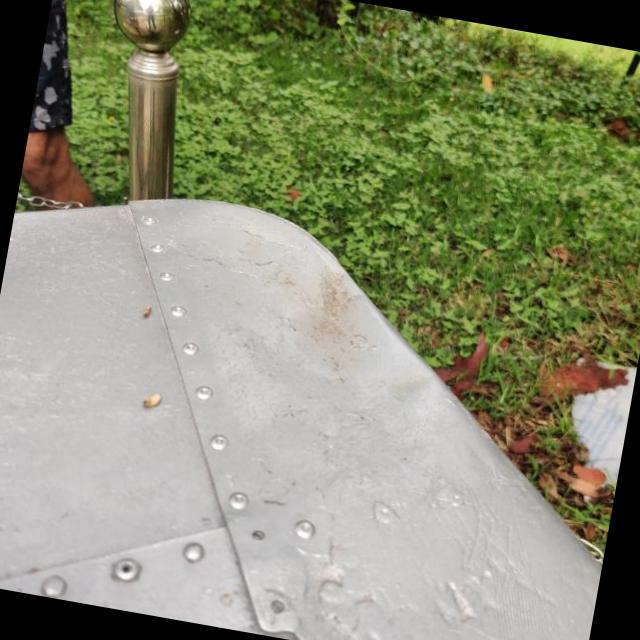Dent: (340, 309, 459, 438)
Scratch: (436, 482, 573, 619)
